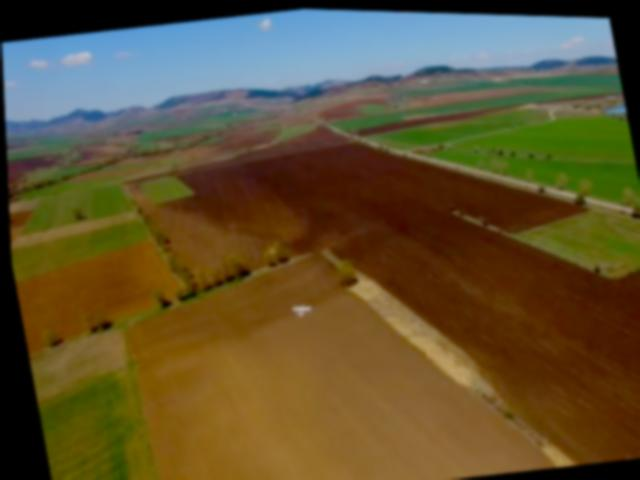uav: (285, 294, 313, 322)
